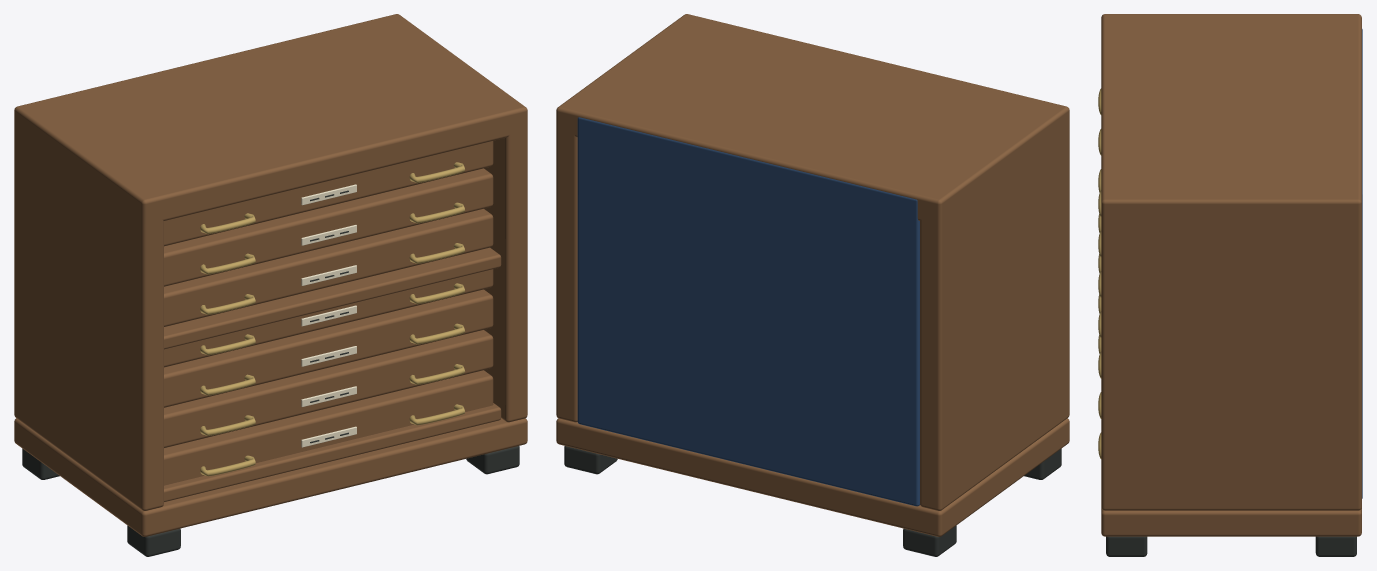
The model's file is fantasy-cartographers-map-printing-guild-atlas-flat-fi-cefa8bb7__32265.glb.
3 views of the same model, side by side, from view 1: azimuth 30°, elevation 25°; view 2: azimuth 150°, elevation 25°; view 3: azimuth 270°, elevation 25° (orthographic).
Parts seen in each view (by area): view 1: atlas-flat-file-cabinet; view 2: atlas-flat-file-cabinet; view 3: atlas-flat-file-cabinet.
Boxes of the visible parts, x1,y1,x2,y2 form: atlas-flat-file-cabinet: (14,14,527,556); atlas-flat-file-cabinet: (556,14,1069,556); atlas-flat-file-cabinet: (1098,14,1362,556).
Bounding box in the file's own units: 1.4 × 1.25 × 0.8318.
